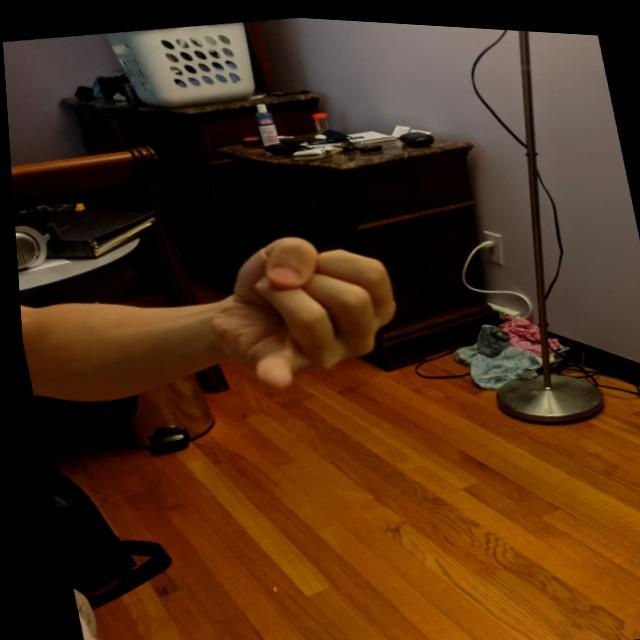J: (185, 210, 419, 406)
